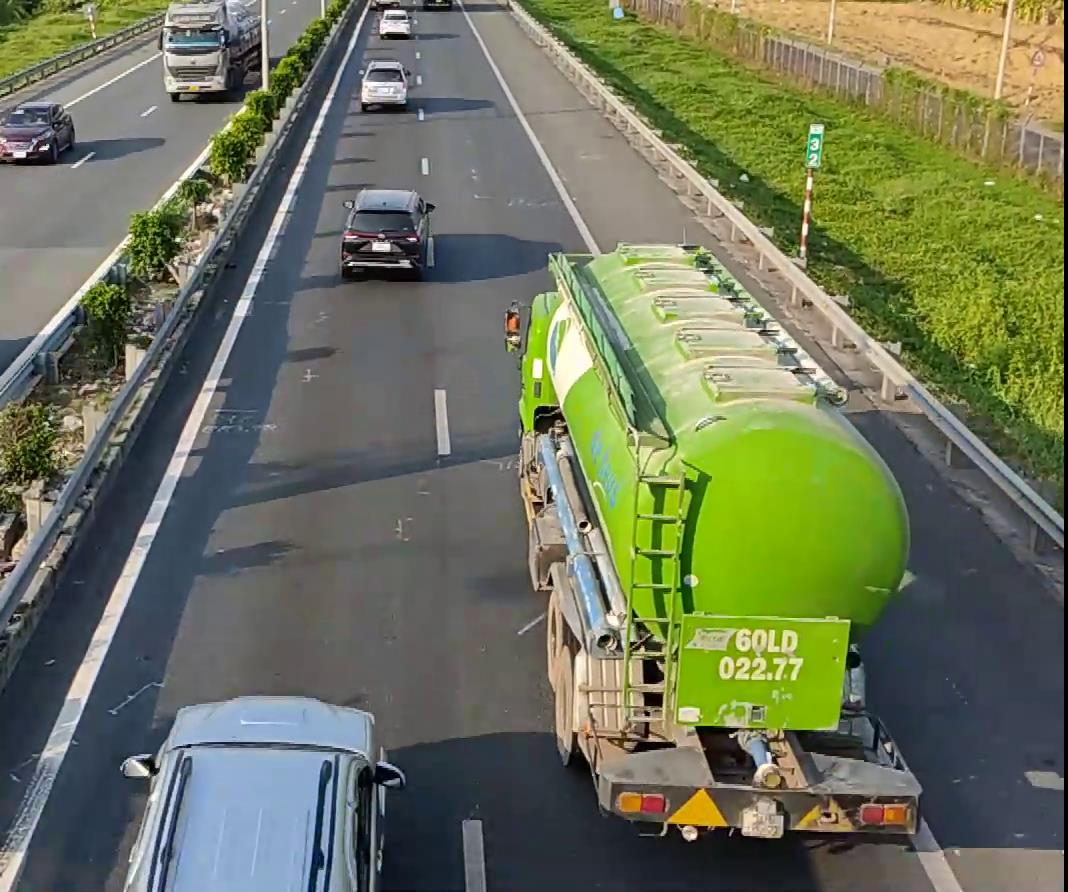car: (118, 690, 403, 887), (337, 186, 435, 279), (0, 99, 76, 164)
container: (510, 240, 936, 843), (159, 0, 265, 100)
